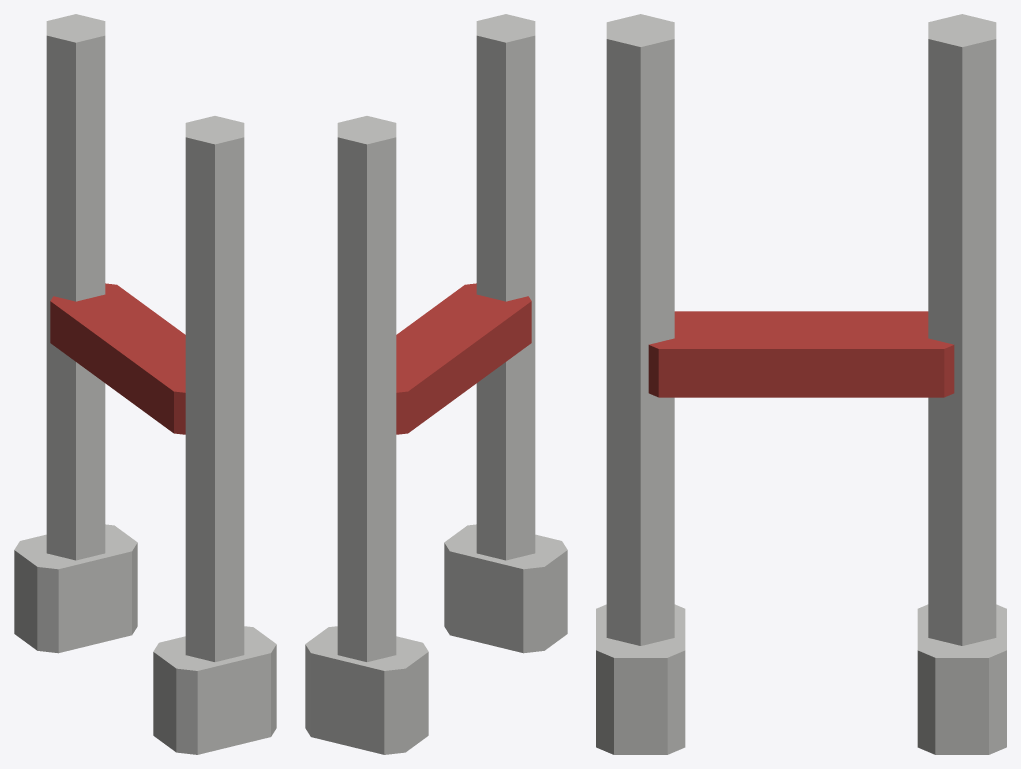
The model's file is roader_usd_black_lower_lod2.glb.
The picture shows the model from 3 angles, left to right: view 1: azimuth 30°, elevation 25°; view 2: azimuth 150°, elevation 25°; view 3: azimuth 270°, elevation 25°; orthographic projection. The views are drawn at different scales.
Parts seen in each view (by area): view 1: roader_usd_black_lower_lod2; view 2: roader_usd_black_lower_lod2; view 3: roader_usd_black_lower_lod2.
Part boxes in pixels (left/top/right/bottom): roader_usd_black_lower_lod2: left=14, top=14, right=276, bottom=754; roader_usd_black_lower_lod2: left=305, top=14, right=567, bottom=754; roader_usd_black_lower_lod2: left=596, top=14, right=1006, bottom=754.
Size of the model in its own units: 0.075 by 0.43 by 0.23.
